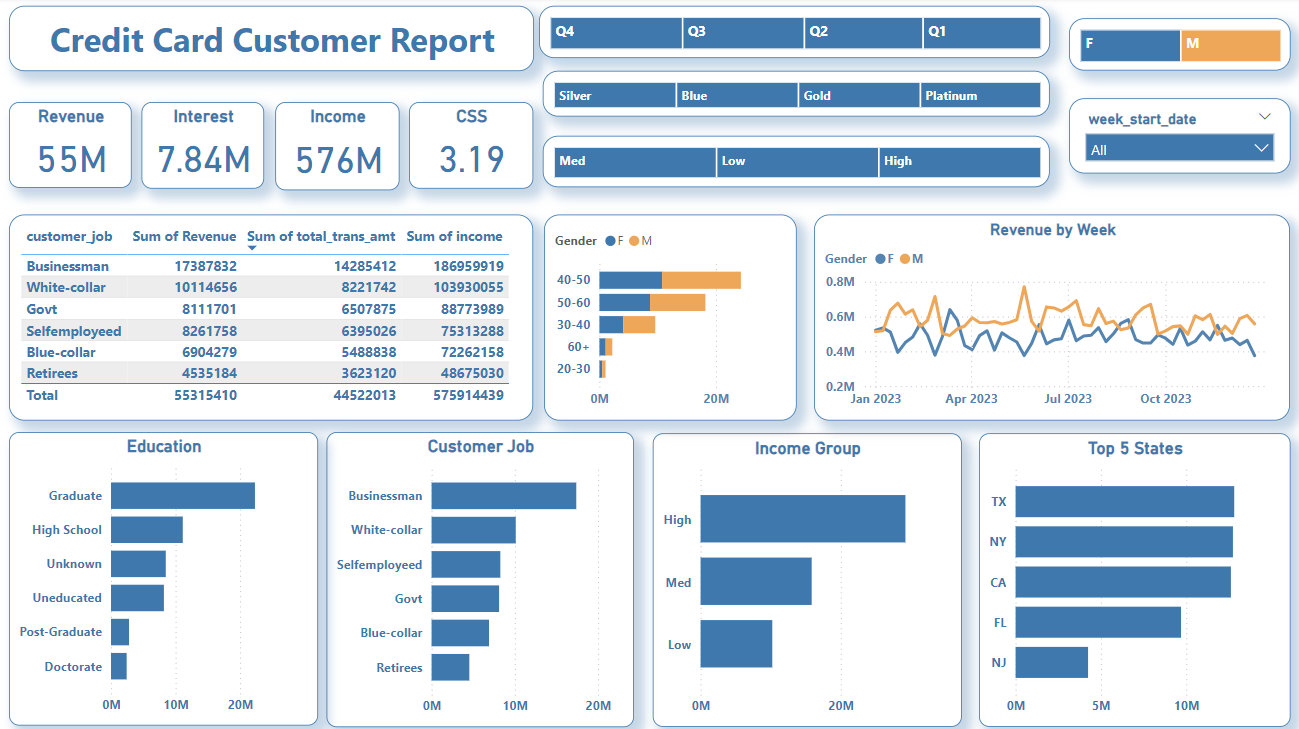

What the dashboard file says about the page in this screenshot:
{"tool":"powerbi","page":{"name":"Customer ","canvas":[1280,720],"ordinal":1},"visuals":[{"type":"textbox","box":[10,8.8,513.8,63.8],"z":0},{"type":"barChart","title":"Income Group","fields":{"Y":["Sum(public cc_detail.Revenue)"],"Category":["public cust_detail.IncomeGroup"]},"box":[639.5,426.8,302,287.4],"z":1000},{"type":"tableEx","fields":{"Values":["public cust_detail.customer_job","Sum(public cc_detail.Revenue)","Sum(public cc_detail.total_trans_amt)","Sum(public cust_detail.income)"]},"box":[10,212.7,512.7,201.3],"z":2000},{"type":"card","title":"Revenue","fields":{"Values":["Sum(public cc_detail.Revenue)"]},"box":[10,102.5,120,83.8],"z":3000},{"type":"card","title":"Interest","fields":{"Values":["Sum(public cc_detail.interest_earned)"]},"box":[140,102.5,120,85],"z":4000},{"type":"card","title":"Income","fields":{"Values":["Sum(public cust_detail.income)"]},"box":[270,102.5,121.2,86.2],"z":5000},{"type":"card","title":"CSS","fields":{"Values":["Avg(public cust_detail.cust_satisfaction_score)"]},"box":[401.2,102.5,121.2,85],"z":6000},{"type":"treemap","fields":{"Group":["public cc_detail.qtr"],"Values":["Avg(public cust_detail.client_num)"]},"box":[528.8,8.8,500,51.2],"z":7000},{"type":"treemap","fields":{"Values":["Avg(public cust_detail.client_num)"],"Group":["public cust_detail.gender"]},"box":[1046.7,20.8,216.4,51.4],"z":8000},{"type":"treemap","fields":{"Values":["Avg(public cust_detail.client_num)"],"Group":["public cc_detail.card_category"]},"box":[532.5,72.5,496.2,45],"z":9000},{"type":"lineChart","title":"Revenue by Week","fields":{"Series":["public cust_detail.gender"],"Y":["Sum(public cc_detail.Revenue)"],"Category":["public cc_detail.week_start_date.Variation.Date Hierarchy.Year","public cc_detail.week_start_date.Variation.Date Hierarchy.Quarter","public cc_detail.week_start_date.Variation.Date Hierarchy.Month","public cc_detail.week_start_date.Variation.Date Hierarchy.Day"]},"box":[797.3,212.8,465.9,201.8],"z":10000},{"type":"barChart","title":"Age Group","fields":{"Category":["public cust_detail.AgrGroup"],"Y":["Sum(public cc_detail.Revenue)"],"Series":["public cust_detail.gender"]},"box":[533.2,212.8,247,201.8],"z":11000},{"type":"barChart","title":"Customer Job","fields":{"Y":["Sum(public cc_detail.Revenue)"],"Category":["public cust_detail.customer_job"]},"box":[320.4,425.5,300.8,288.6],"z":12000},{"type":"barChart","title":"Education","fields":{"Y":["Sum(public cc_detail.Revenue)"],"Category":["public cust_detail.education_level"]},"box":[9.8,425.5,302,287.4],"z":13000},{"type":"barChart","title":"Top 5 States","fields":{"Y":["Sum(public cc_detail.Revenue)"],"Category":["public cust_detail.state_cd"]},"box":[958.7,426.8,304.5,287.4],"z":15000},{"type":"slicer","fields":{"Values":["public cc_detail.week_start_date"]},"box":[1046.7,99,216.4,73.4],"z":16000},{"type":"treemap","fields":{"Values":["Avg(public cust_detail.client_num)"],"Group":["public cust_detail.IncomeGroup"]},"box":[532.5,136.2,496.2,50],"z":17000}]}

Visuals, with their boxes in screenshot pixels (x1, y1, x2, y2), scaled from the page's 1280x720 canvas onto the 1299x729 screenshot:
textbox: (10, 9, 532, 74)
"Income Group" barChart: (649, 432, 955, 723)
tableEx - public cust_detail.customer_job x Sum(public cc_detail.Revenue): (10, 215, 530, 419)
"Revenue" card: (10, 104, 132, 189)
"Interest" card: (142, 104, 264, 190)
"Income" card: (274, 104, 397, 191)
"CSS" card: (407, 104, 530, 190)
treemap - public cc_detail.qtr x Avg(public cust_detail.client_num): (537, 9, 1044, 61)
treemap - Avg(public cust_detail.client_num) x public cust_detail.gender: (1062, 21, 1282, 73)
treemap - Avg(public cust_detail.client_num) x public cc_detail.card_category: (540, 73, 1044, 119)
"Revenue by Week" lineChart: (809, 215, 1282, 420)
"Age Group" barChart: (541, 215, 792, 420)
"Customer Job" barChart: (325, 431, 630, 723)
"Education" barChart: (10, 431, 316, 722)
"Top 5 States" barChart: (973, 432, 1282, 723)
slicer - public cc_detail.week_start_date: (1062, 100, 1282, 175)
treemap - Avg(public cust_detail.client_num) x public cust_detail.IncomeGroup: (540, 138, 1044, 189)
